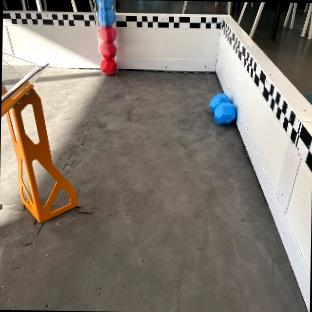V5_BLUE: (209, 92, 236, 124)
V5_RED: (98, 25, 116, 73)
